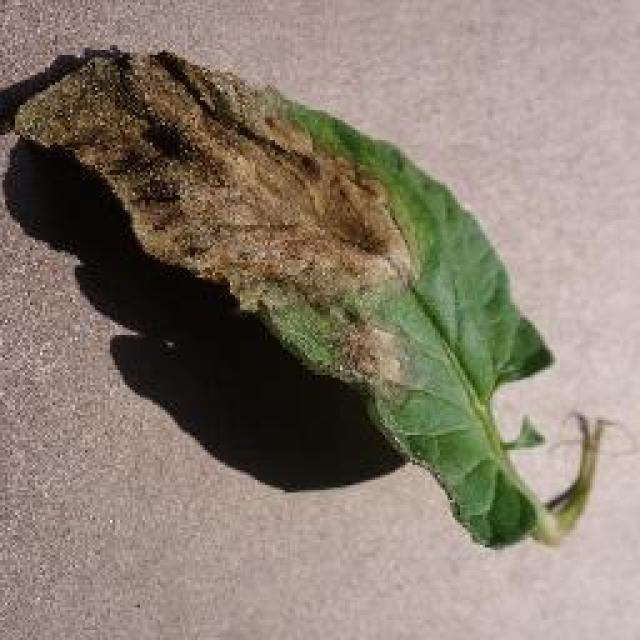Tomato___Late_blight: (15, 46, 624, 553)
